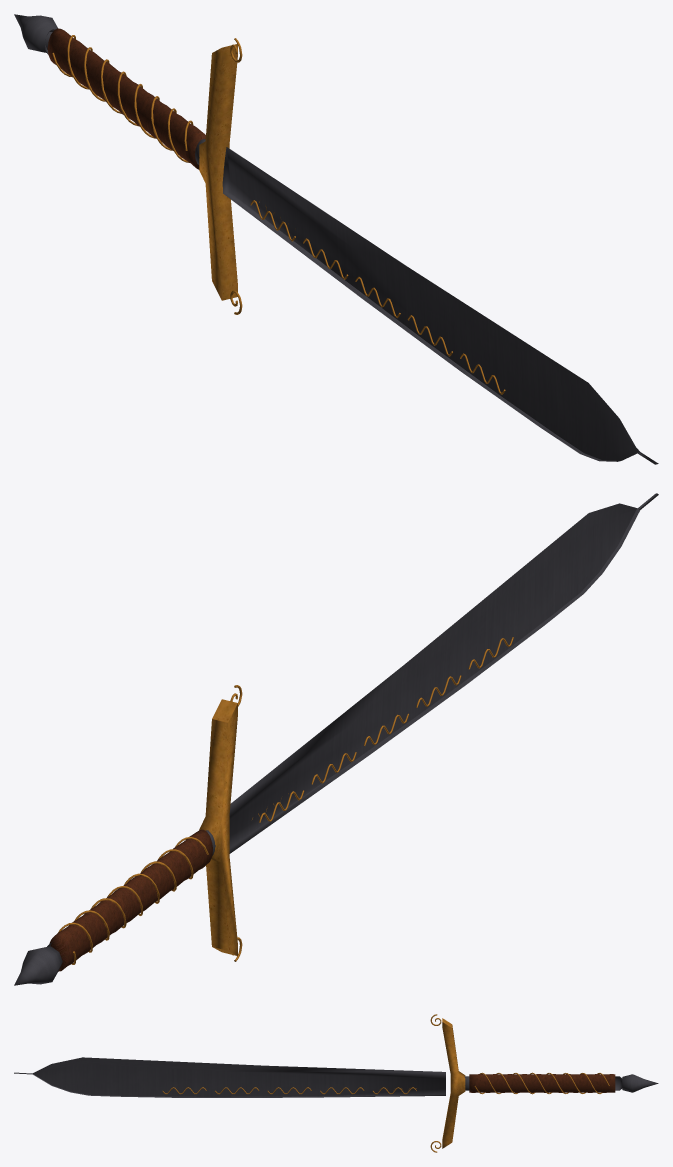
File: weapon_spire_falchion.glb
The picture shows the model from 3 angles, top to bottom: view 1: azimuth 30°, elevation 25°; view 2: azimuth 150°, elevation 25°; view 3: azimuth 270°, elevation 25°; orthographic projection. The views are drawn at different scales.
Visible parts, largest first — view 1: spire_falchion; view 2: spire_falchion; view 3: spire_falchion.
Part boxes in pixels (bbox=[...]): spire_falchion: bbox=[14, 14, 658, 464]; spire_falchion: bbox=[14, 493, 658, 985]; spire_falchion: bbox=[14, 1014, 658, 1152].
Size of the model in its own units: 0.034 by 0.2618 by 1.11.
Materials: 3 (3 with a texture image).
